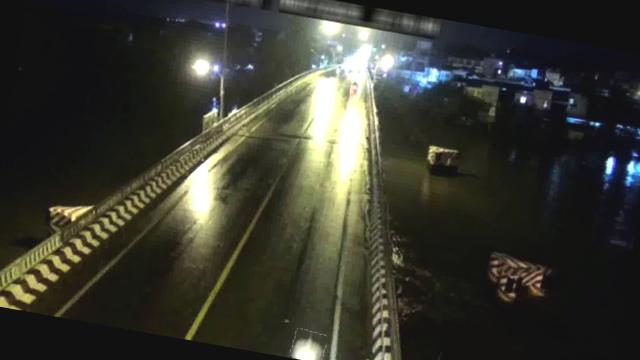Bike: (289, 327, 328, 360), (349, 78, 360, 95)
